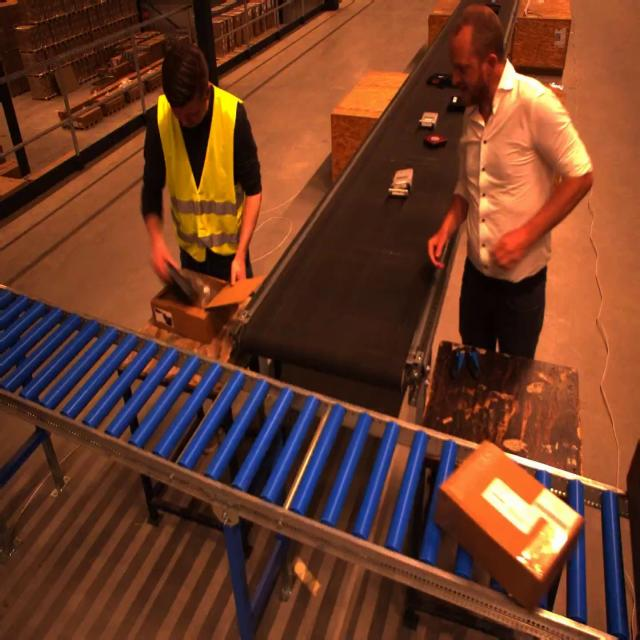box: (433, 441, 583, 611), (148, 271, 266, 353)
product: (388, 168, 412, 197), (427, 73, 452, 88), (418, 112, 438, 129), (446, 95, 466, 112), (423, 134, 447, 147)
